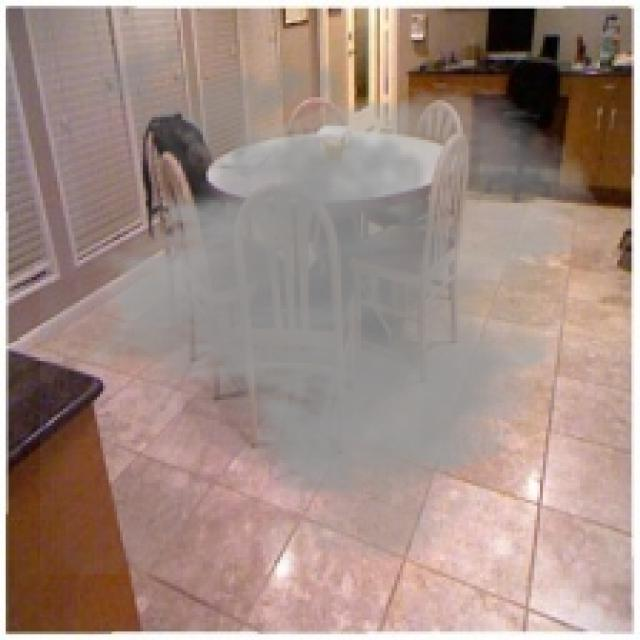smoke: (40, 26, 603, 574)
